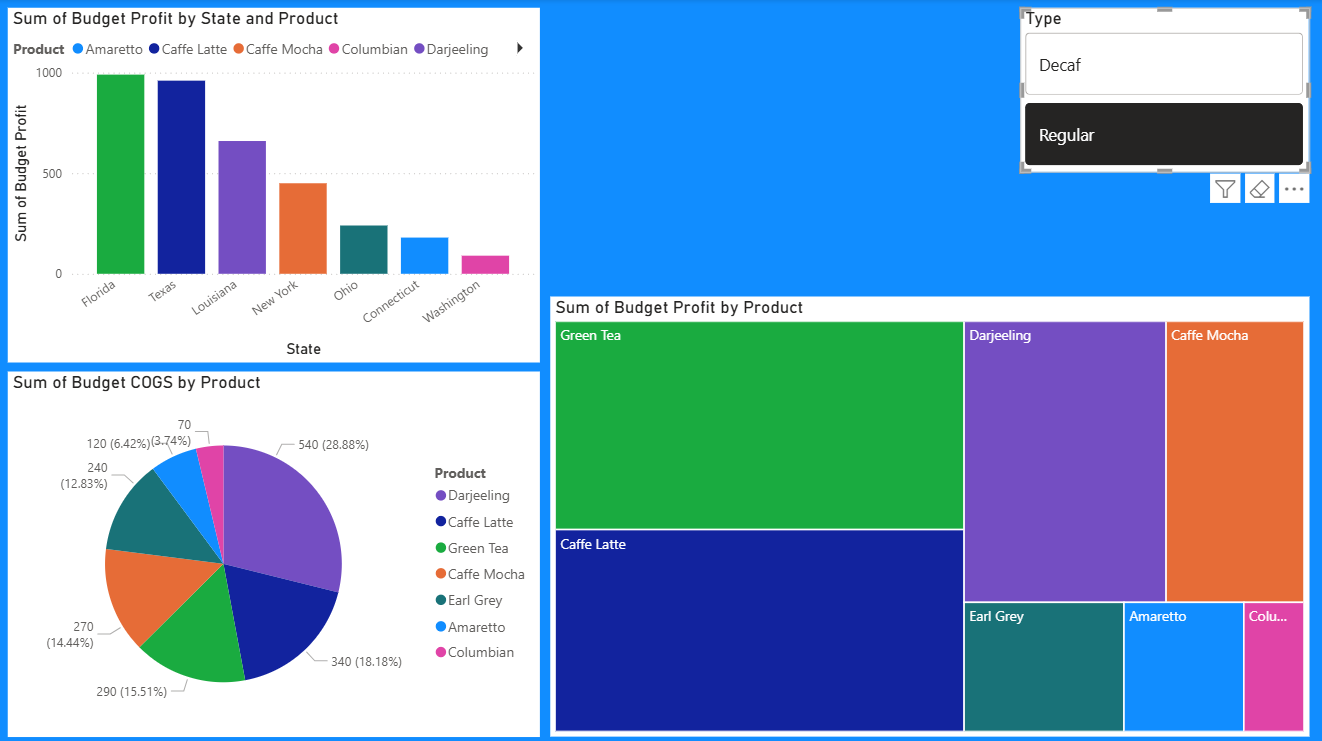

The page's visual inventory and layout, read from the dashboard file:
{"tool":"powerbi","page":{"name":"Page 1","canvas":[1280,720],"ordinal":0},"visuals":[{"type":"columnChart","fields":{"Category":["Area.State"],"Y":["Sum(Sales.Budget Profit)"],"Series":["Products.Product"]},"box":[8.8,8.8,513.8,342.5],"z":0},{"type":"pieChart","fields":{"Y":["Sum(Sales.Budget COGS)"],"Category":["Products.Product"]},"box":[8.8,360,513.8,352.5],"z":1000},{"type":"treemap","fields":{"Values":["Sum(Sales.Budget Profit)"],"Group":["Products.Product"]},"box":[532.5,287.5,732.5,425],"z":2000},{"type":"advancedSlicerVisual","fields":{"Values":["Products.Type"]},"box":[986.2,8.8,278.8,158.8],"z":3000}]}

Visuals, with their boxes in screenshot pixels (x1, y1, x2, y2), scaled from the page's 1280x720 canvas onto the 1322x741 screenshot:
columnChart - Area.State x Sum(Sales.Budget Profit): locate(9, 9, 540, 362)
pieChart - Sum(Sales.Budget COGS) x Products.Product: locate(9, 370, 540, 733)
treemap - Sum(Sales.Budget Profit) x Products.Product: locate(550, 296, 1307, 733)
advancedSlicerVisual - Products.Type: locate(1019, 9, 1307, 172)
